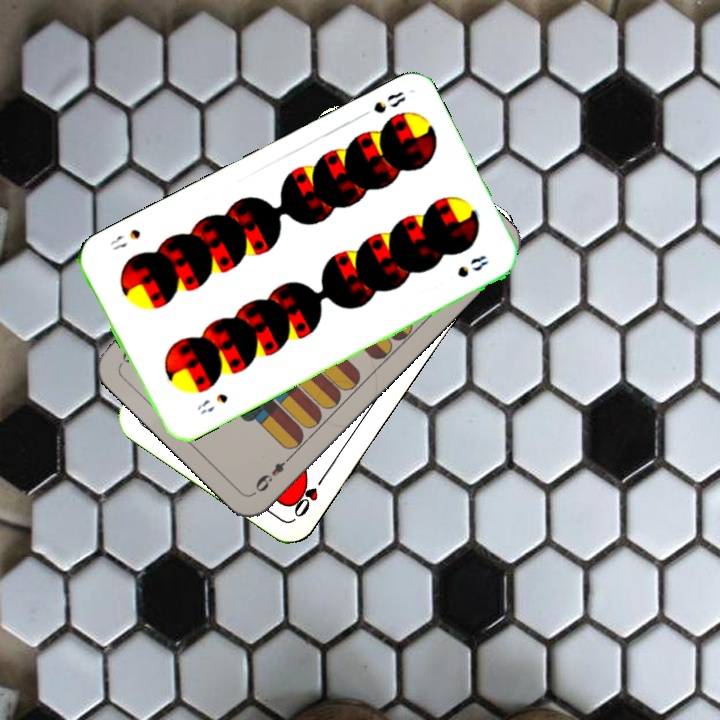E9: (251, 450, 296, 495)
HO: (287, 469, 329, 520)
S8: (354, 87, 408, 121), (193, 389, 231, 417)
